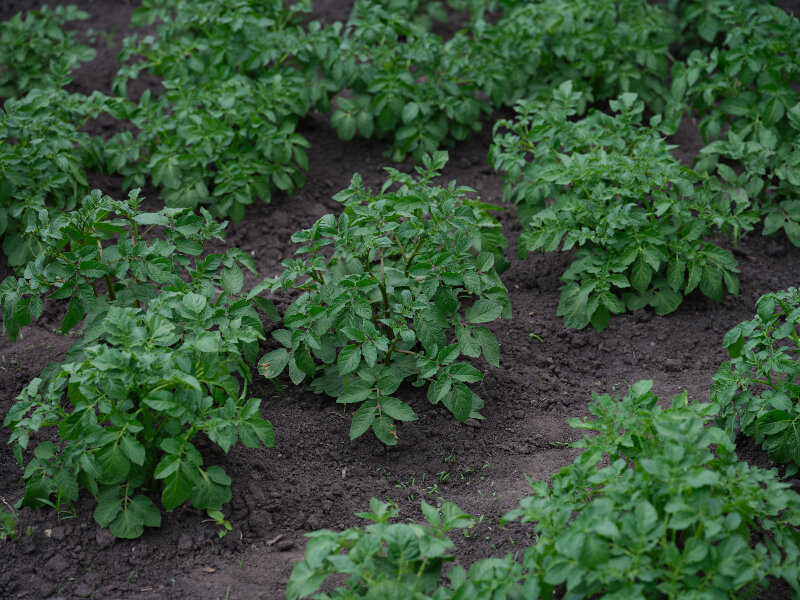potato_plant: (7, 204, 275, 522), (262, 151, 516, 428), (493, 84, 742, 304)
